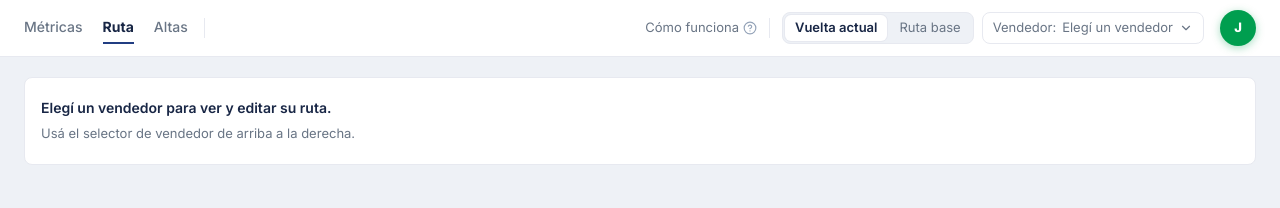
Test case: RutaPage › muestra los chips de la cola y preselecciona la rotación vigente
The image size is (1280, 208).
Click the button "Vendedor: Elegí un vendedor".
click(1093, 28)  # box [982,12,1204,44]
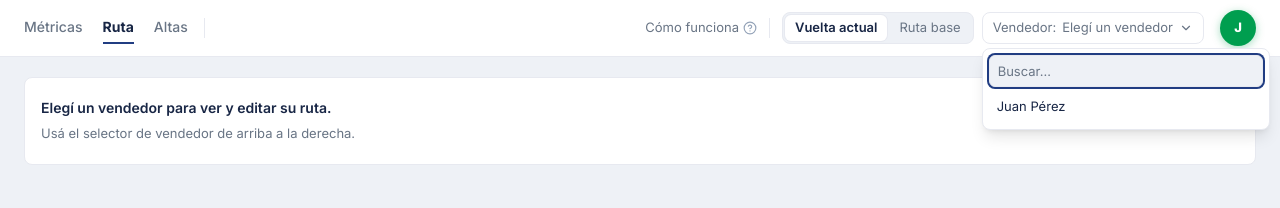
Click the option "Juan Pérez".
click(1031, 106)  # box [997,98,1065,114]
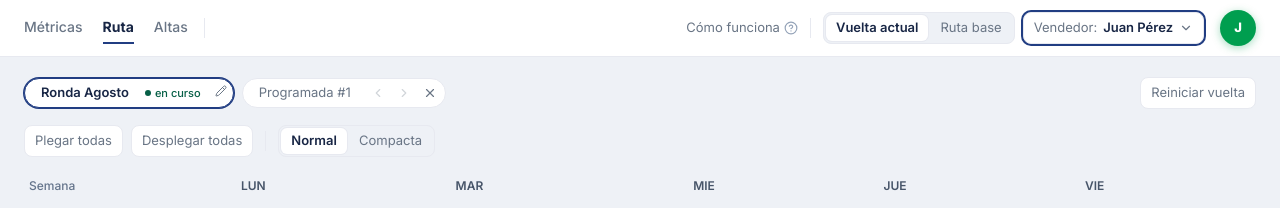
Result: the button "Ronda Agosto" is shown at [29,79,141,107]
Result: the button "Programada #1" is shown at [247,79,363,107]
